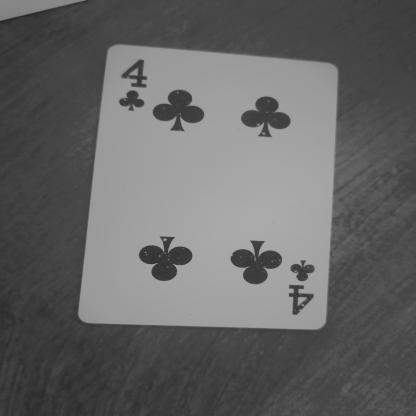4C: (283, 244, 322, 332), (115, 51, 162, 116)
